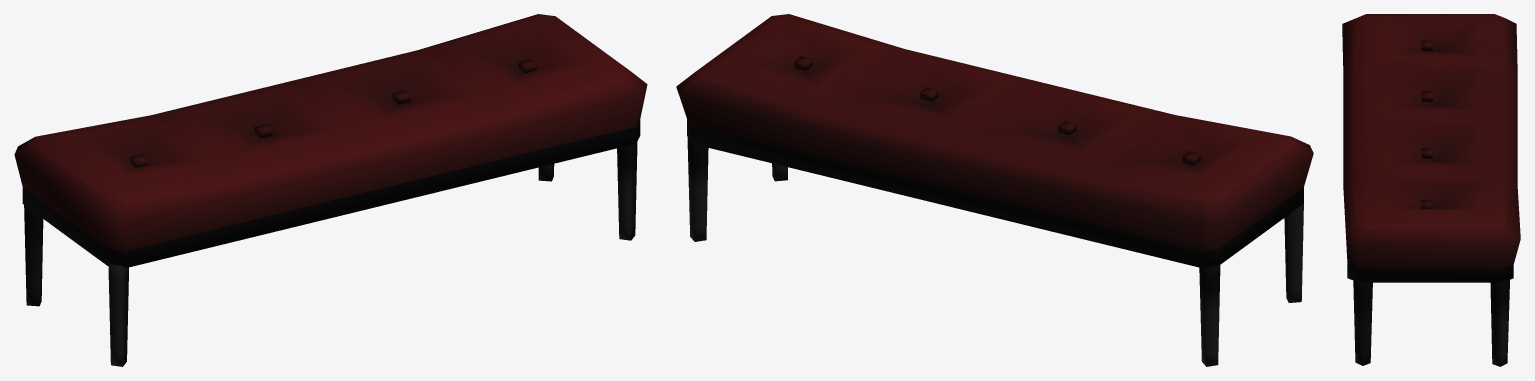
3 views of the same model, side by side, from view 1: azimuth 30°, elevation 25°; view 2: azimuth 150°, elevation 25°; view 3: azimuth 270°, elevation 25° (orthographic). The views are drawn at different scales.
Parts seen in each view (by area): view 1: PianoSeat; view 2: PianoSeat; view 3: PianoSeat.
Part boxes in pixels (left/top/right/bottom): PianoSeat: left=14, top=14, right=647, bottom=366; PianoSeat: left=676, top=14, right=1313, bottom=366; PianoSeat: left=1342, top=14, right=1520, bottom=366.
Size of the model in its own units: 0.5 by 0.15 by 0.1682.
